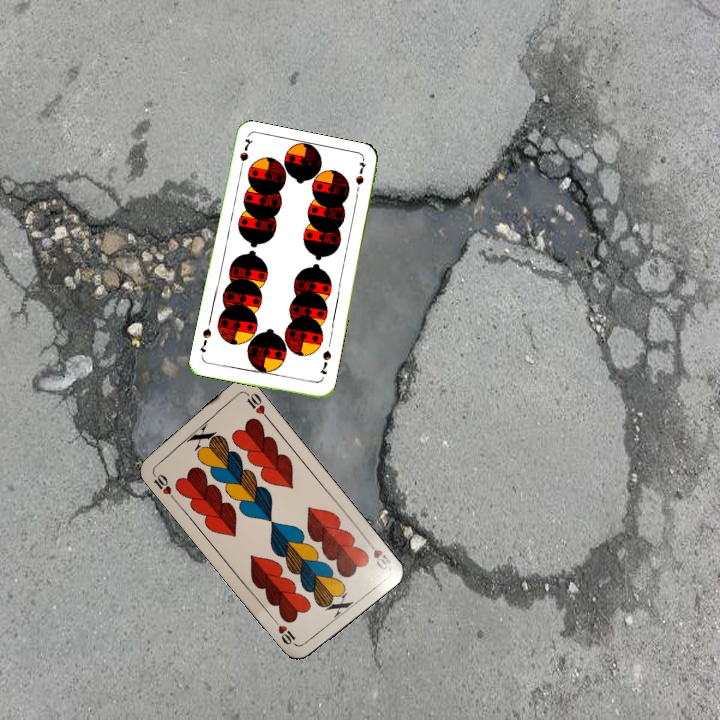H10: (363, 536, 396, 573), (148, 467, 177, 502)
S7: (236, 135, 255, 175), (316, 346, 334, 377)
